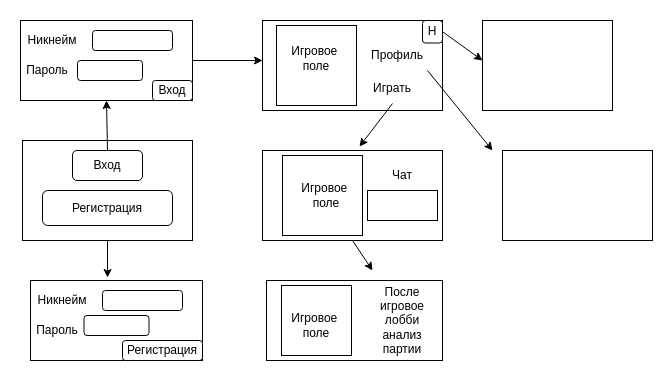
The diagram is 670 pixels wide and 383 high, and some of its shapes have lost their labels. The shapes that lost their labels are listed below. From the top down, each one's centre as x and y in pixels, then its label:
[547,65]: Настройки от выбора цвета до режима
[577,195]: Статистика
